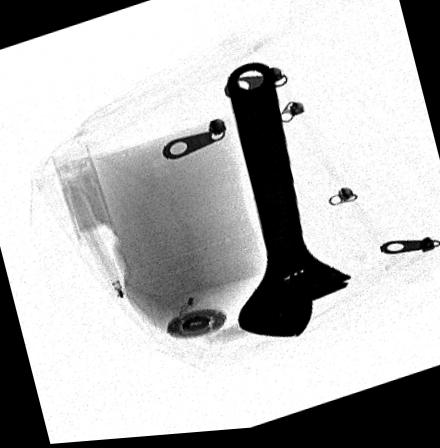Wrench: (225, 64, 353, 345)
